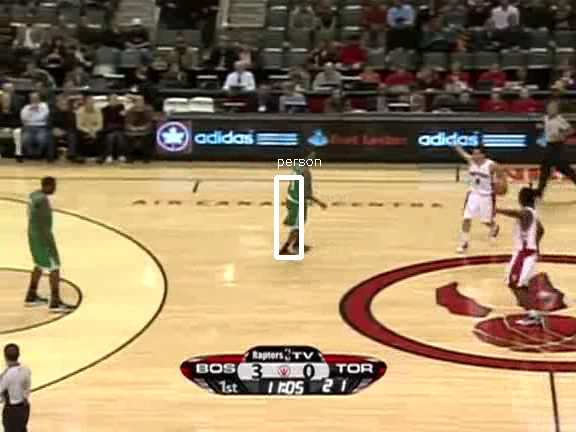person: (281, 158, 315, 239), (280, 158, 314, 239), (282, 158, 316, 239), (281, 157, 315, 238), (281, 159, 315, 240)
target_negative: (140, 167, 334, 362), (332, 249, 485, 398), (247, 304, 279, 372), (487, 211, 515, 260), (80, 304, 218, 313), (343, 324, 441, 335)
